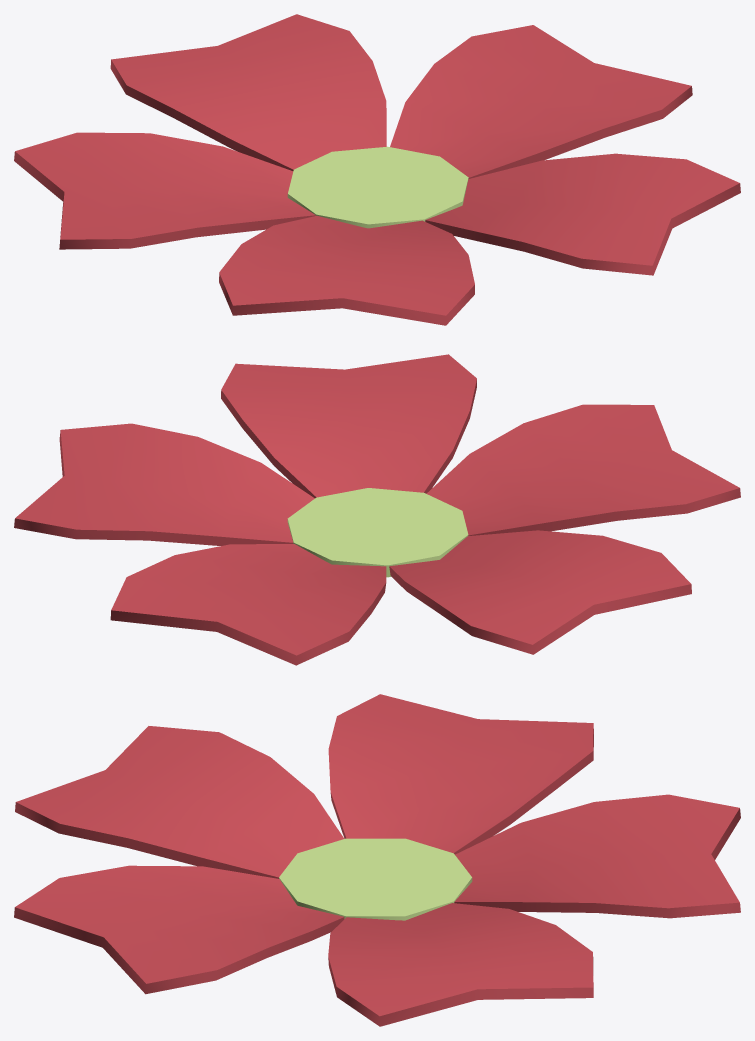
The model's file is flor00.fbx.
3 renders of one model, top to bottom at view 1: azimuth 30°, elevation 25°; view 2: azimuth 150°, elevation 25°; view 3: azimuth 270°, elevation 25°, orthographic. The views are drawn at different scales.
Visible parts, largest first — view 1: flor00; view 2: flor00; view 3: flor00.
Part boxes in pixels (x1,y1,x2,y2): flor00: (14, 14, 740, 325); flor00: (14, 354, 740, 665); flor00: (14, 694, 740, 1026).
Bounding box in the file's own units: 16.57 × 0.9217 × 15.76.
